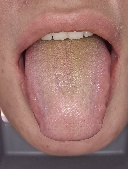tongue: (23, 44, 113, 142)
